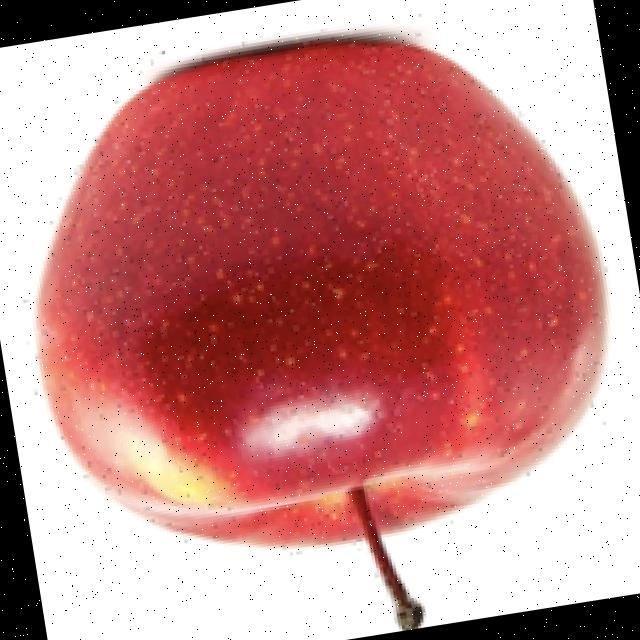apple: (23, 22, 615, 632)
